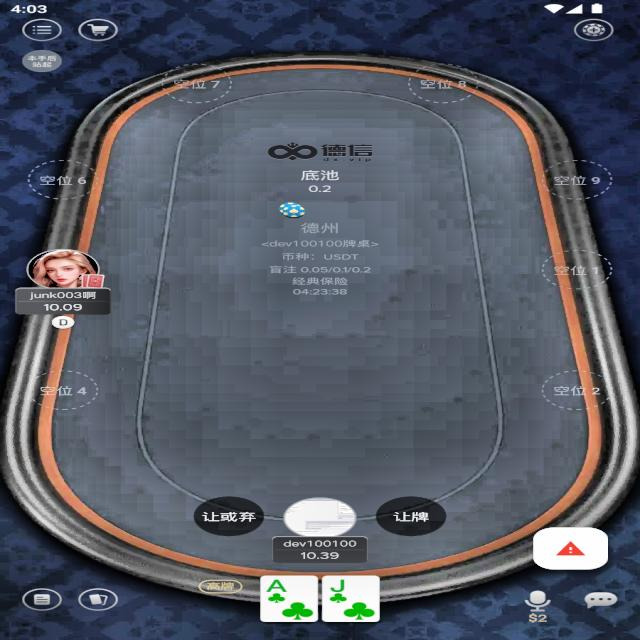Am: (265, 578, 290, 593)
Jm: (328, 576, 351, 592)
